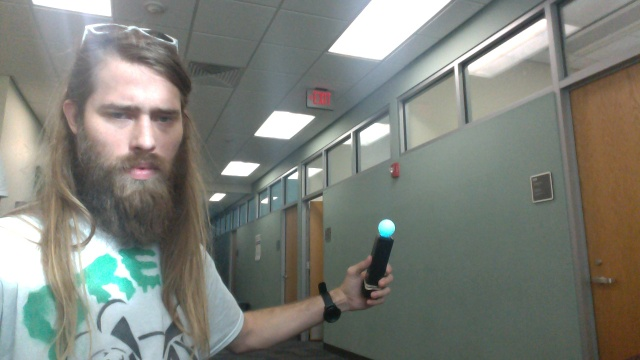wand: (379, 219, 396, 238)
